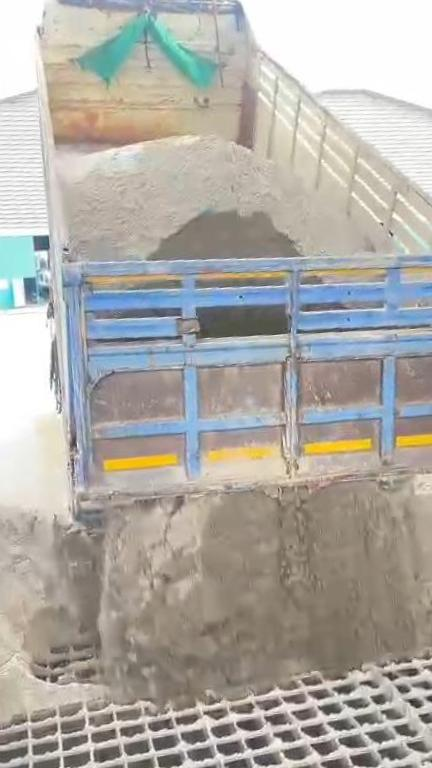sand: (0, 480, 432, 716), (52, 137, 374, 258)
